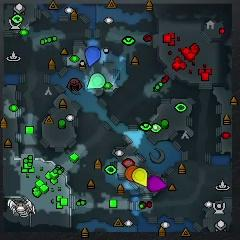p1: (85, 47, 101, 67)
p2: (87, 73, 106, 88)
p3: (147, 175, 167, 193)
p4: (132, 168, 147, 187)
p5: (125, 166, 138, 181)
